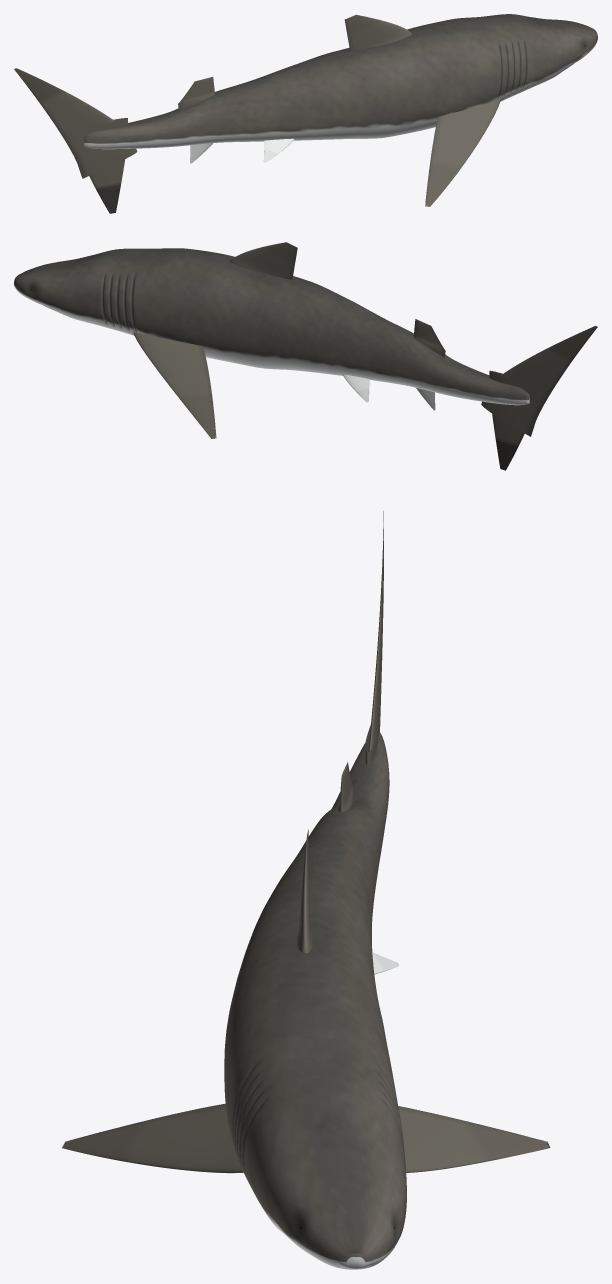
Rendered from silky_shark.glb.
3 renders of one model, top to bottom at view 1: azimuth 30°, elevation 25°; view 2: azimuth 150°, elevation 25°; view 3: azimuth 270°, elevation 25°, orthographic. The views are drawn at different scales.
Parts seen in each view (by area): view 1: silky_shark_Body, silky_shark_Fins; view 2: silky_shark_Body, silky_shark_Fins; view 3: silky_shark_Body, silky_shark_Fins.
Boxes of the visible parts, bbox=[...] form: silky_shark_Body: bbox=[84, 14, 597, 149]; silky_shark_Fins: bbox=[14, 14, 500, 213]; silky_shark_Body: bbox=[14, 248, 529, 405]; silky_shark_Fins: bbox=[133, 242, 597, 470]; silky_shark_Body: bbox=[224, 731, 406, 1269]; silky_shark_Fins: bbox=[62, 511, 550, 1173].
Bounding box in the file's own units: 2.5 × 0.689 × 0.9202.
3 materials, 1 textured.
